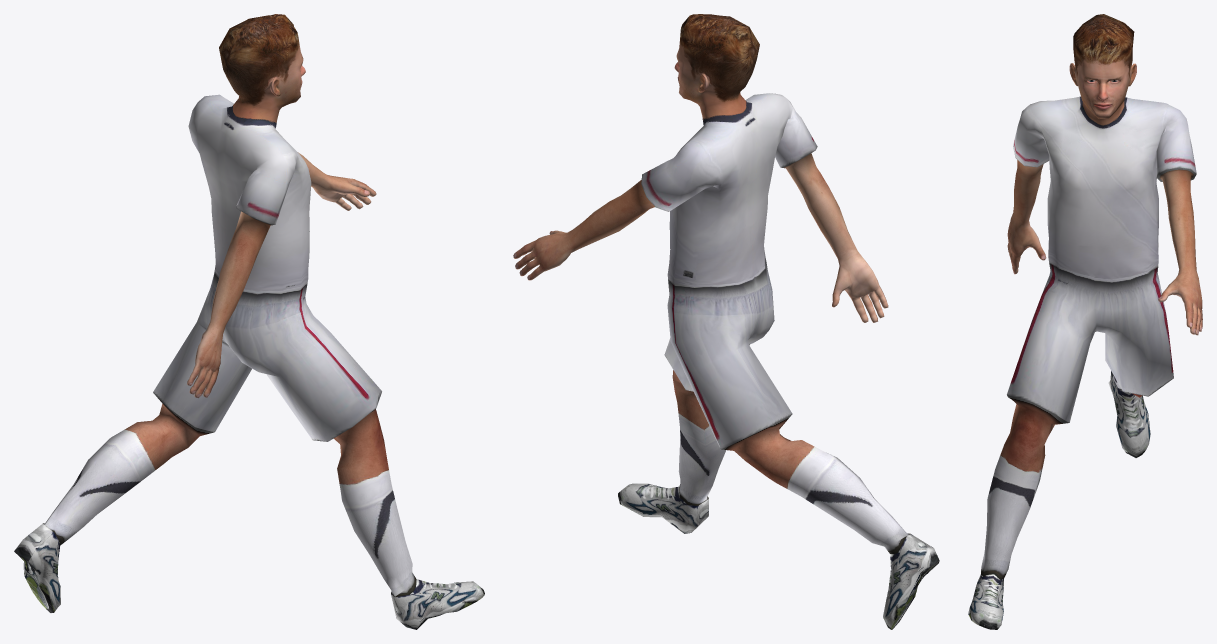
The model's file is player.obj.
3 renders of one model, left to right at view 1: azimuth 30°, elevation 25°; view 2: azimuth 150°, elevation 25°; view 3: azimuth 270°, elevation 25°, orthographic. The views are drawn at different scales.
Parts seen in each view (by area): view 1: soccerplayer_mesh; view 2: soccerplayer_mesh; view 3: soccerplayer_mesh.
Boxes of the visible parts, x1,y1,x2,y2 form: soccerplayer_mesh: (14, 14, 484, 629); soccerplayer_mesh: (513, 14, 939, 629); soccerplayer_mesh: (968, 14, 1202, 629).
Size of the model in its own units: 1.98 by 2.82 by 1.09.
Materials: 1 (1 with a texture image).
